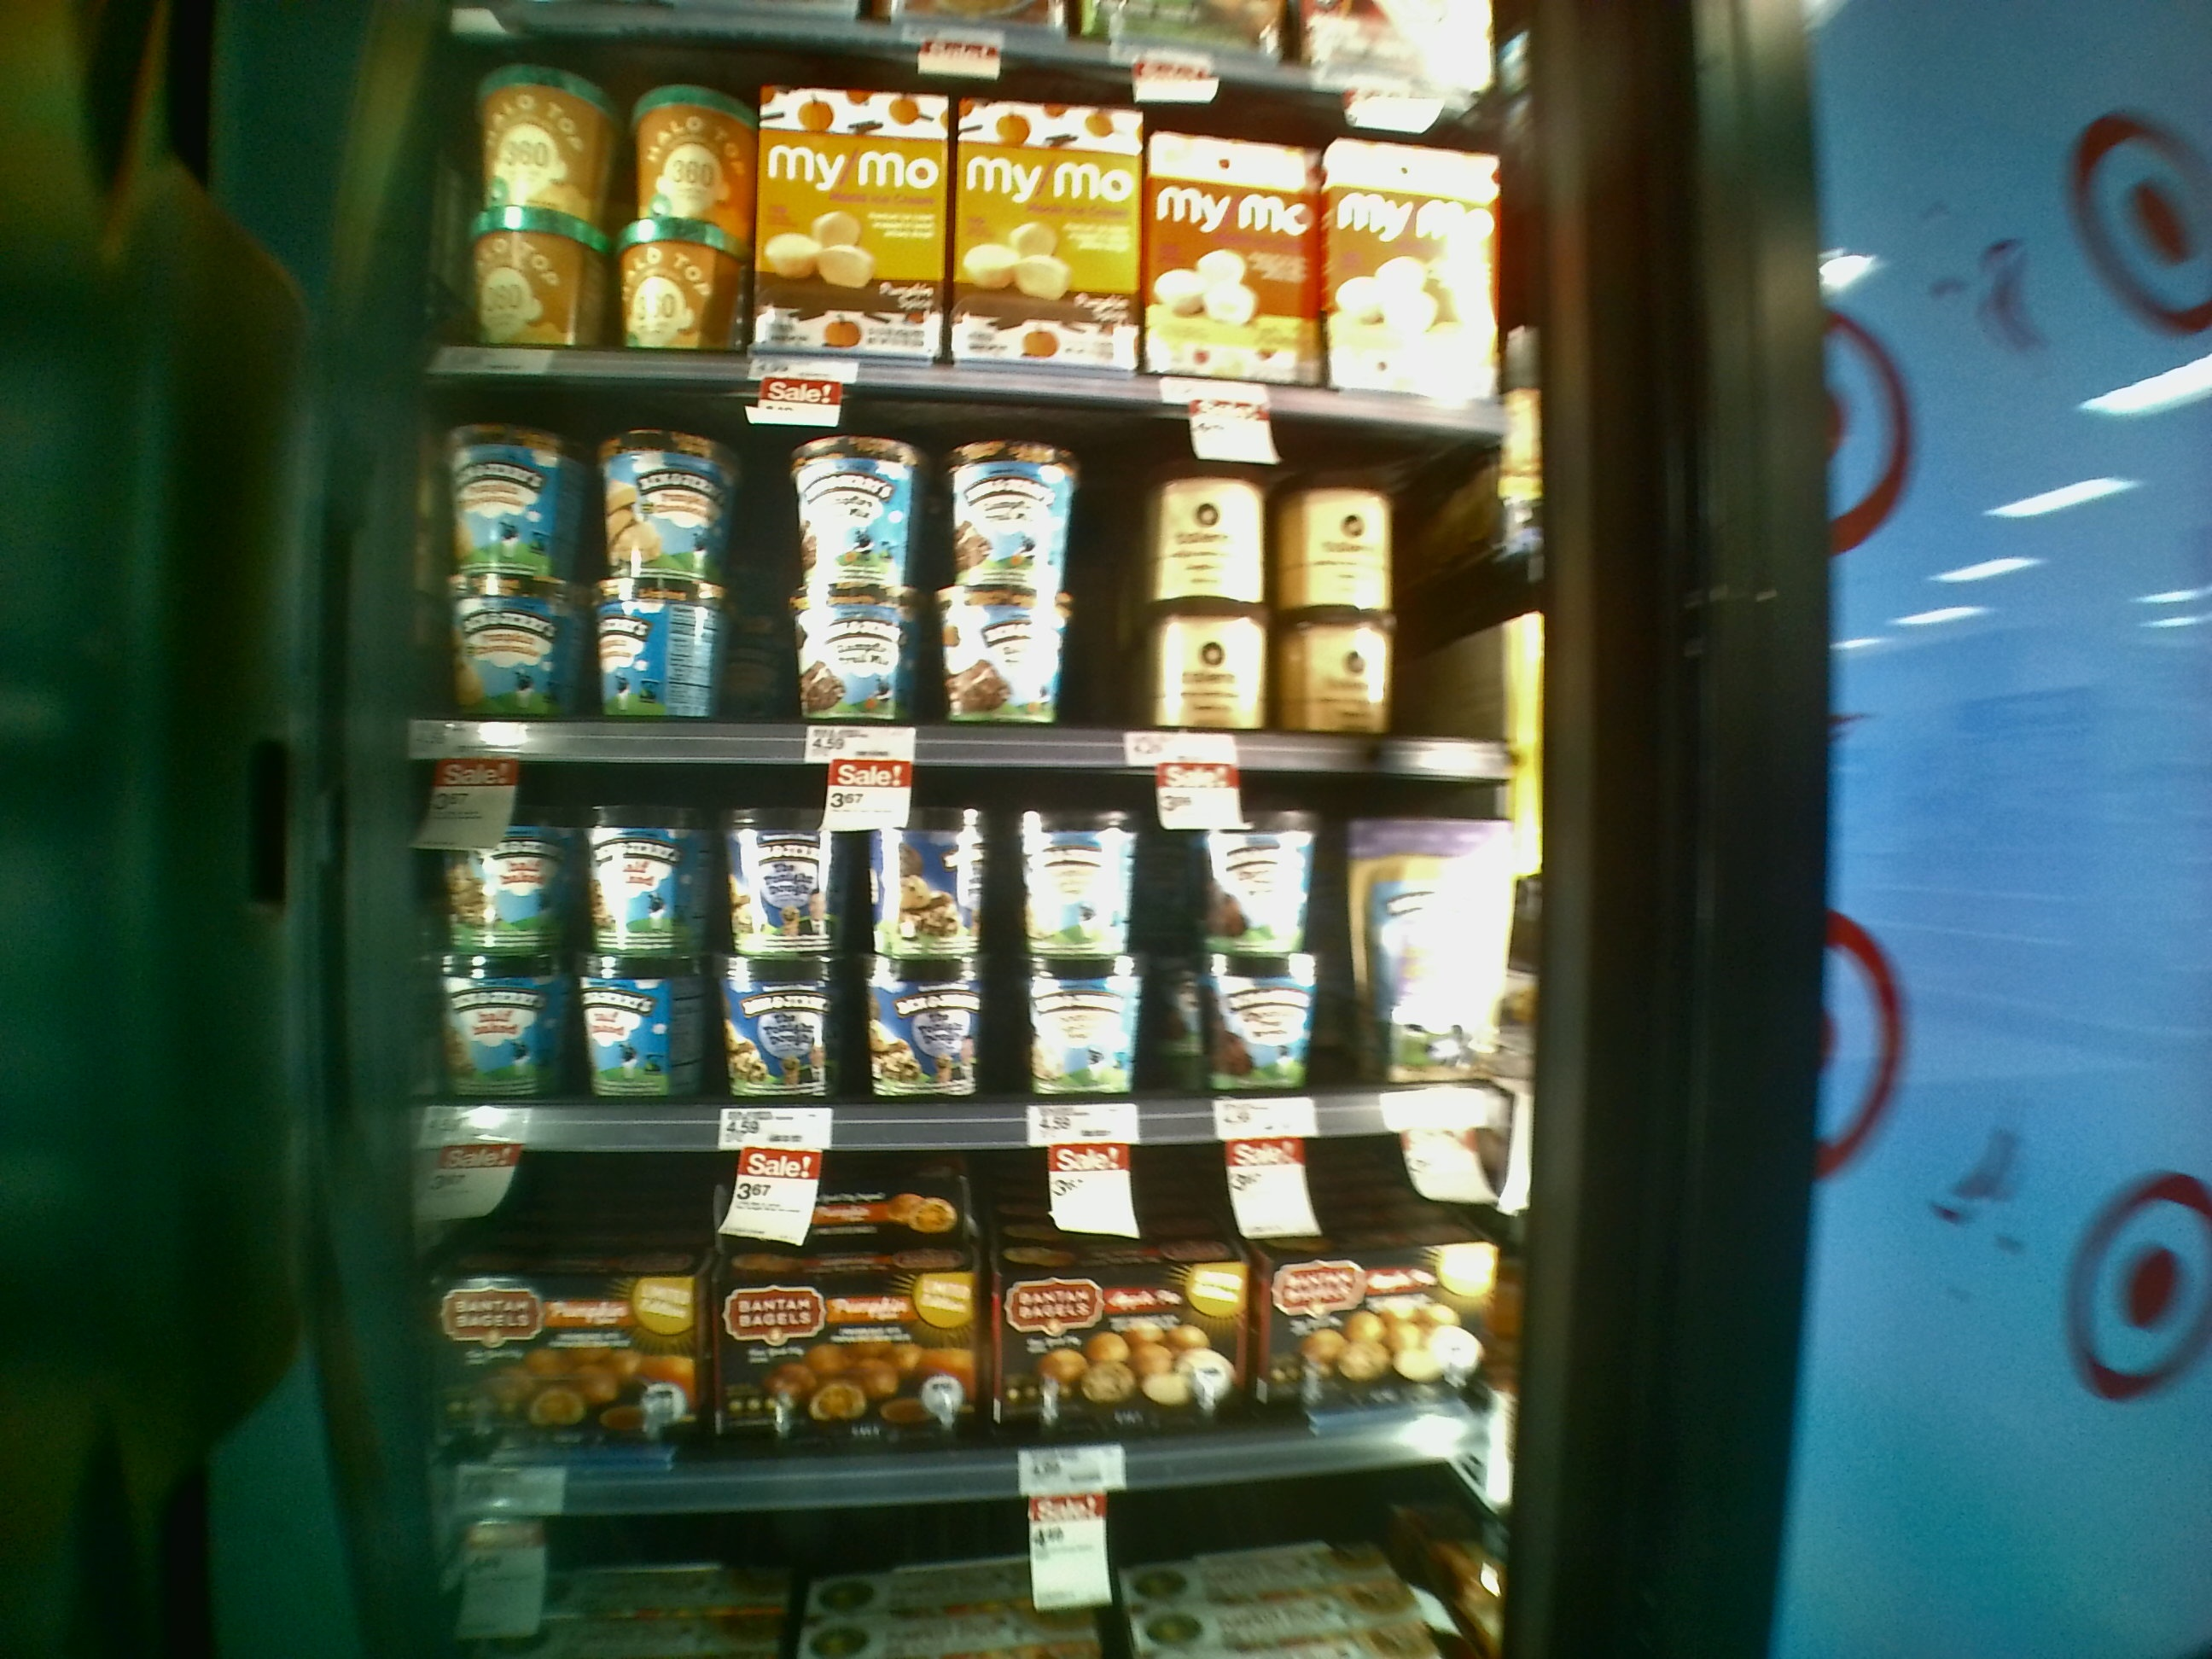shelf: (361, 730, 1536, 1134), (399, 373, 1522, 775), (359, 1121, 1496, 1506)
